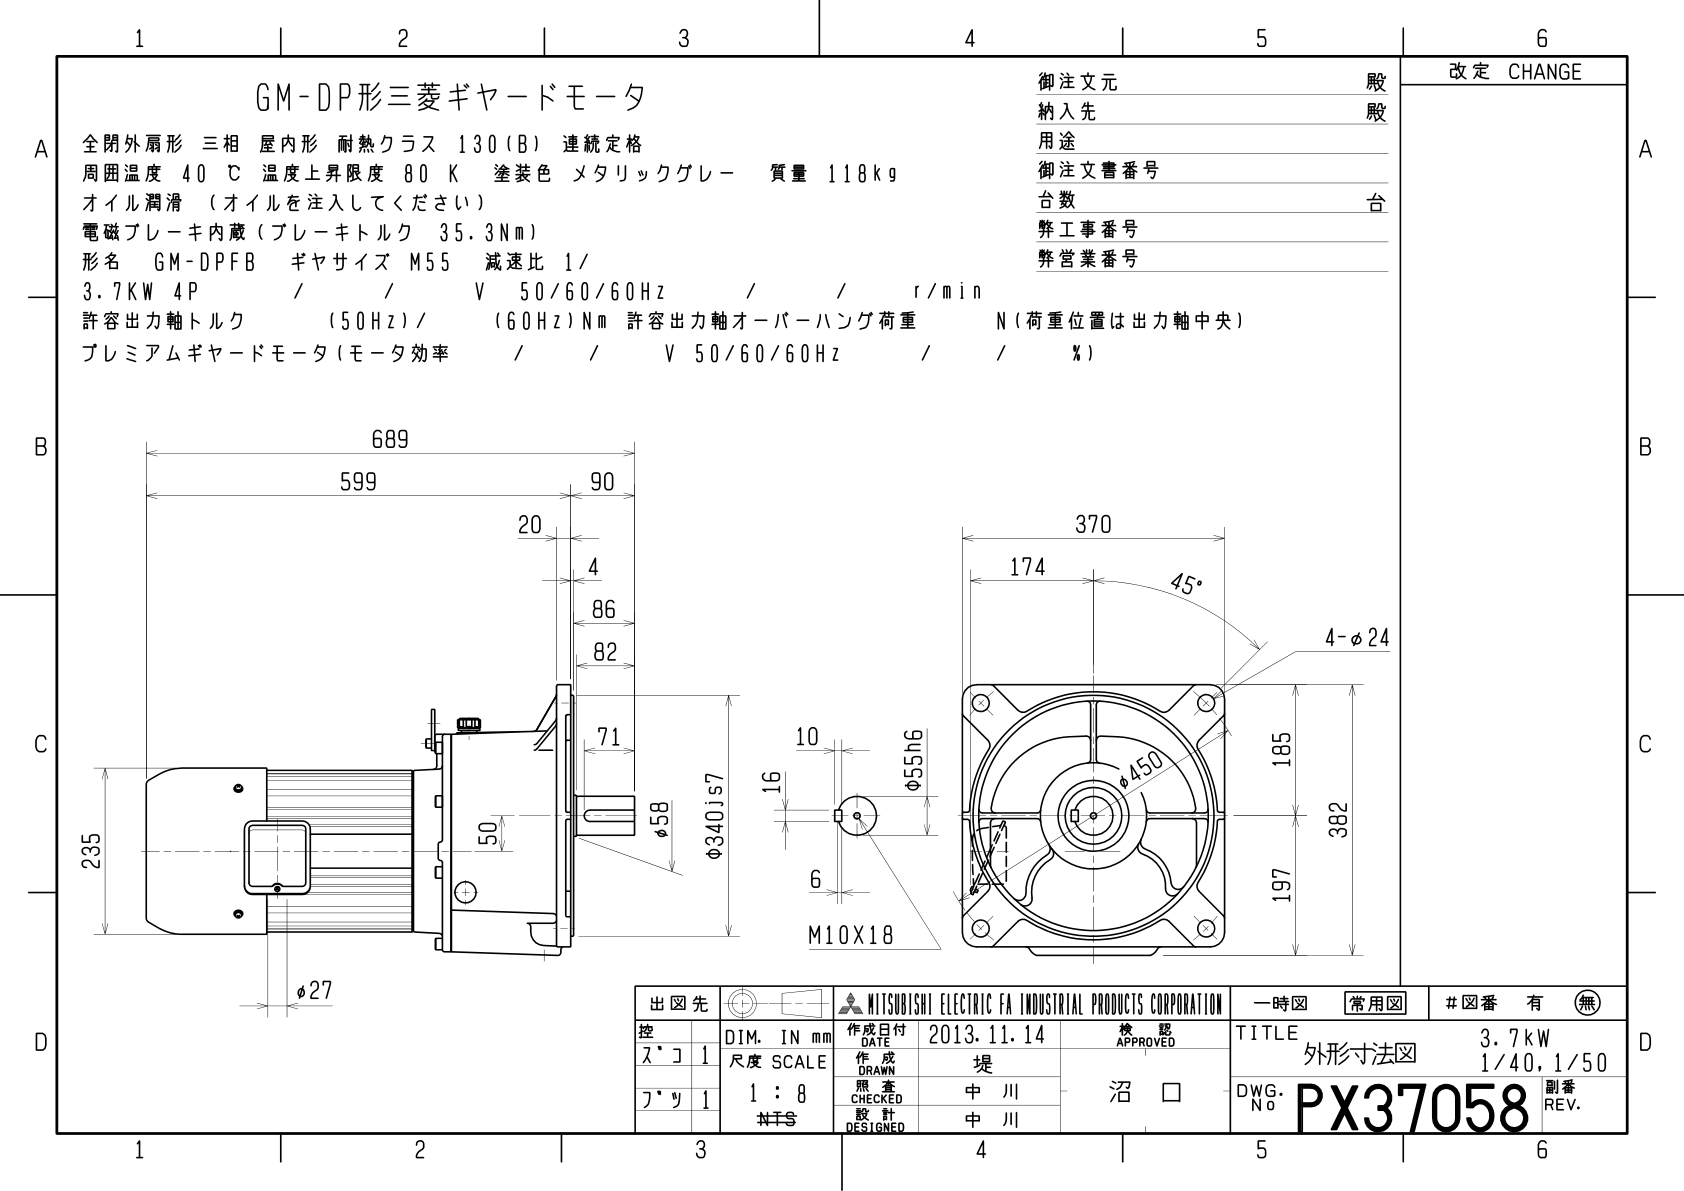GM_DP_屋内_三相_フランジ: (70, 392, 1401, 971)
